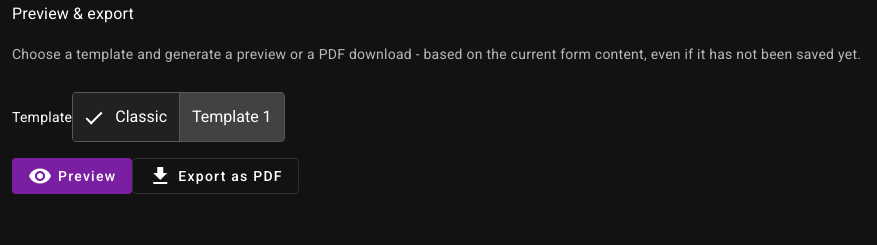
it: CvPreviewExportComponent › shows an error message when export fails
Click the button "Export as PDF".
click(216, 176)  # box [132, 158, 299, 194]
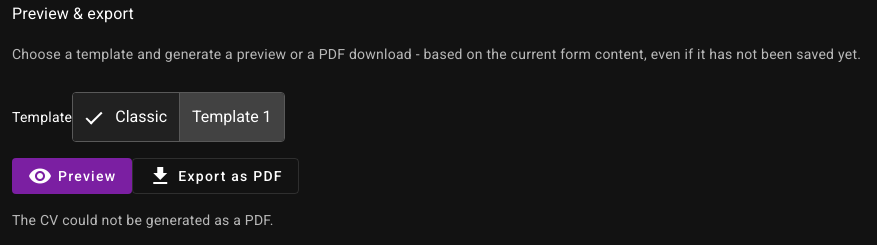
Expected: the text "The CV could not be generated as a PDF." is shown, [12, 212, 274, 228]
